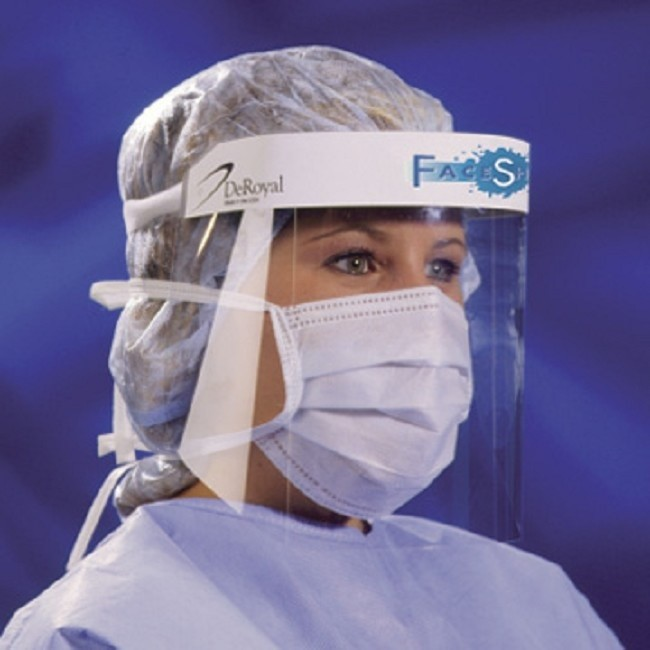face_with_mask: (106, 47, 532, 547)
